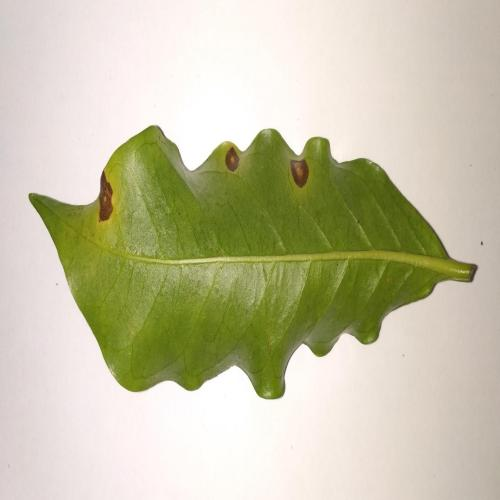cercospora: (94, 162, 123, 229), (286, 150, 313, 194), (215, 143, 242, 183)
leaf: (25, 118, 480, 404)
